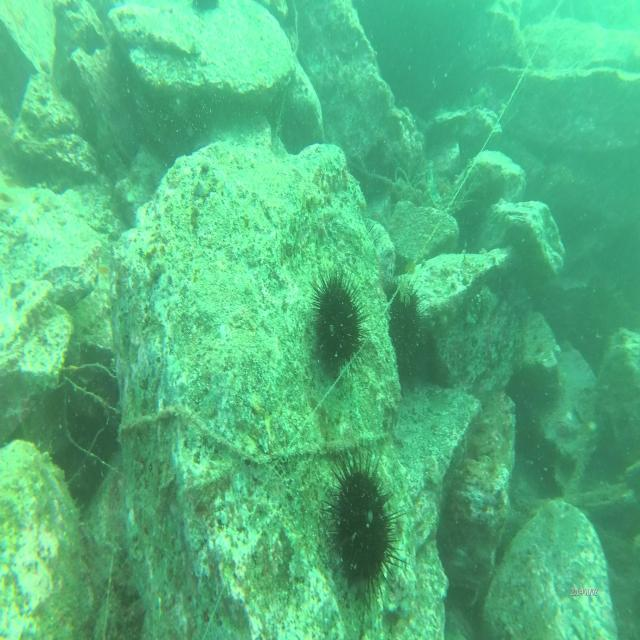echinus: (320, 447, 407, 626), (302, 262, 373, 388), (387, 274, 430, 373)
